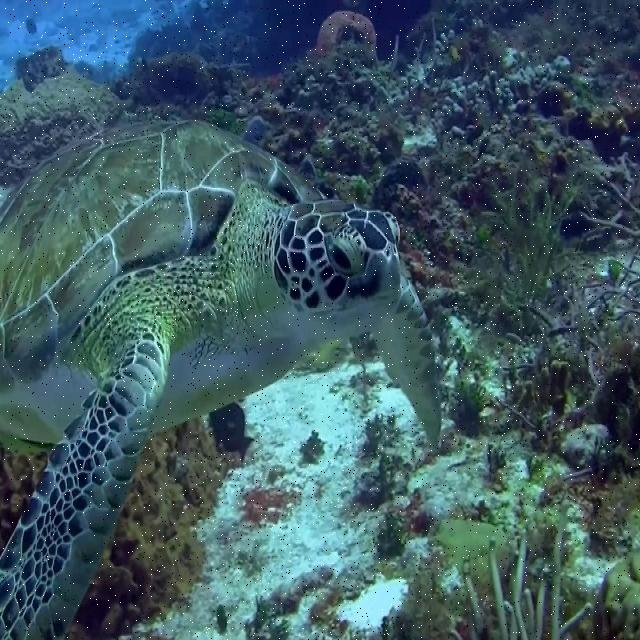aquatic plants: (457, 153, 582, 338), (244, 591, 295, 639), (447, 380, 489, 434), (363, 411, 396, 460), (486, 437, 507, 477), (607, 258, 618, 285)
fish: (0, 116, 442, 639), (211, 404, 259, 465)
reefs: (429, 54, 572, 139), (447, 520, 547, 638), (370, 18, 457, 123), (546, 502, 594, 638)
